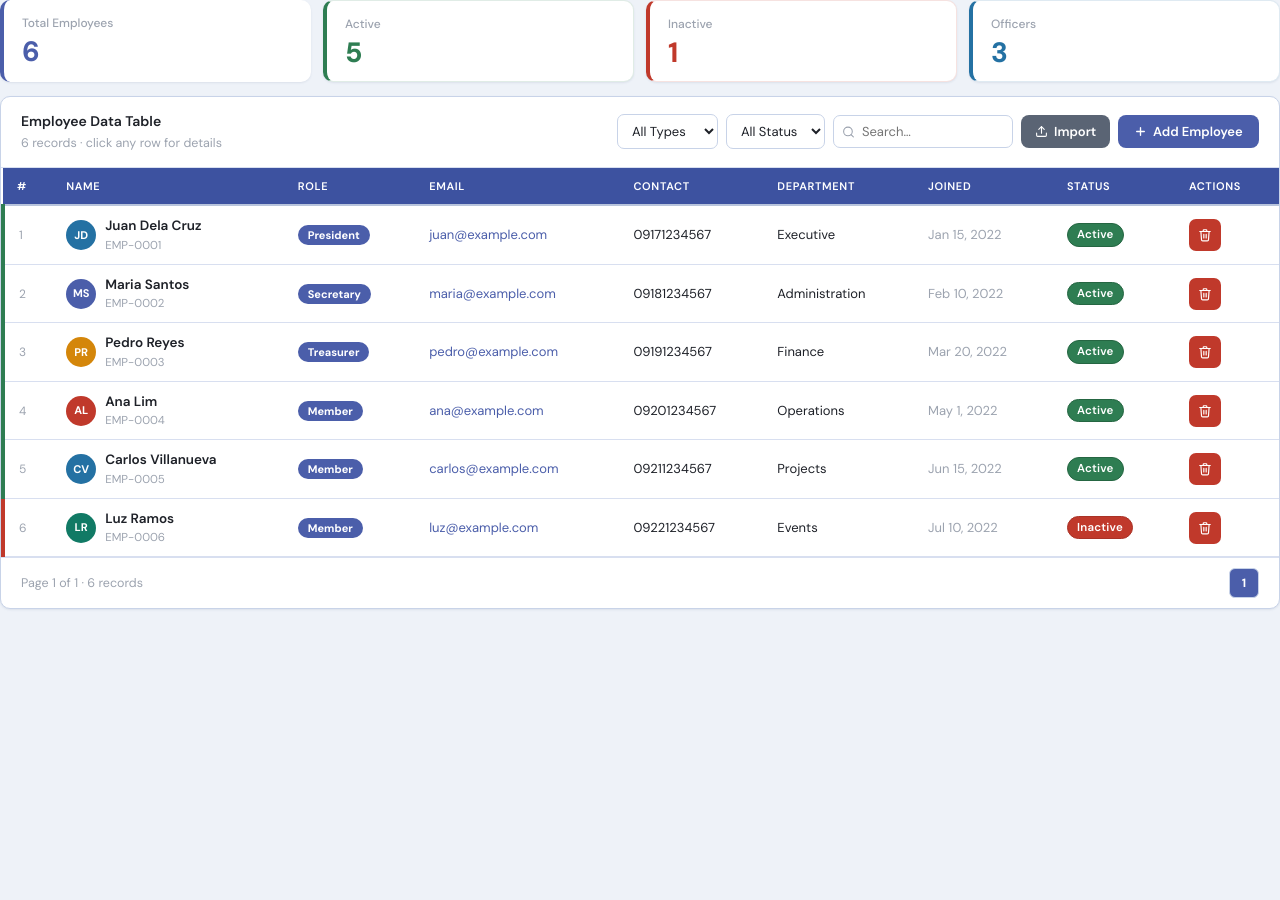
Test case: Employees page › changing the role in the edit form moves the user to that role
Click the text "Ana Lim": (135, 402) [105,392,165,412]
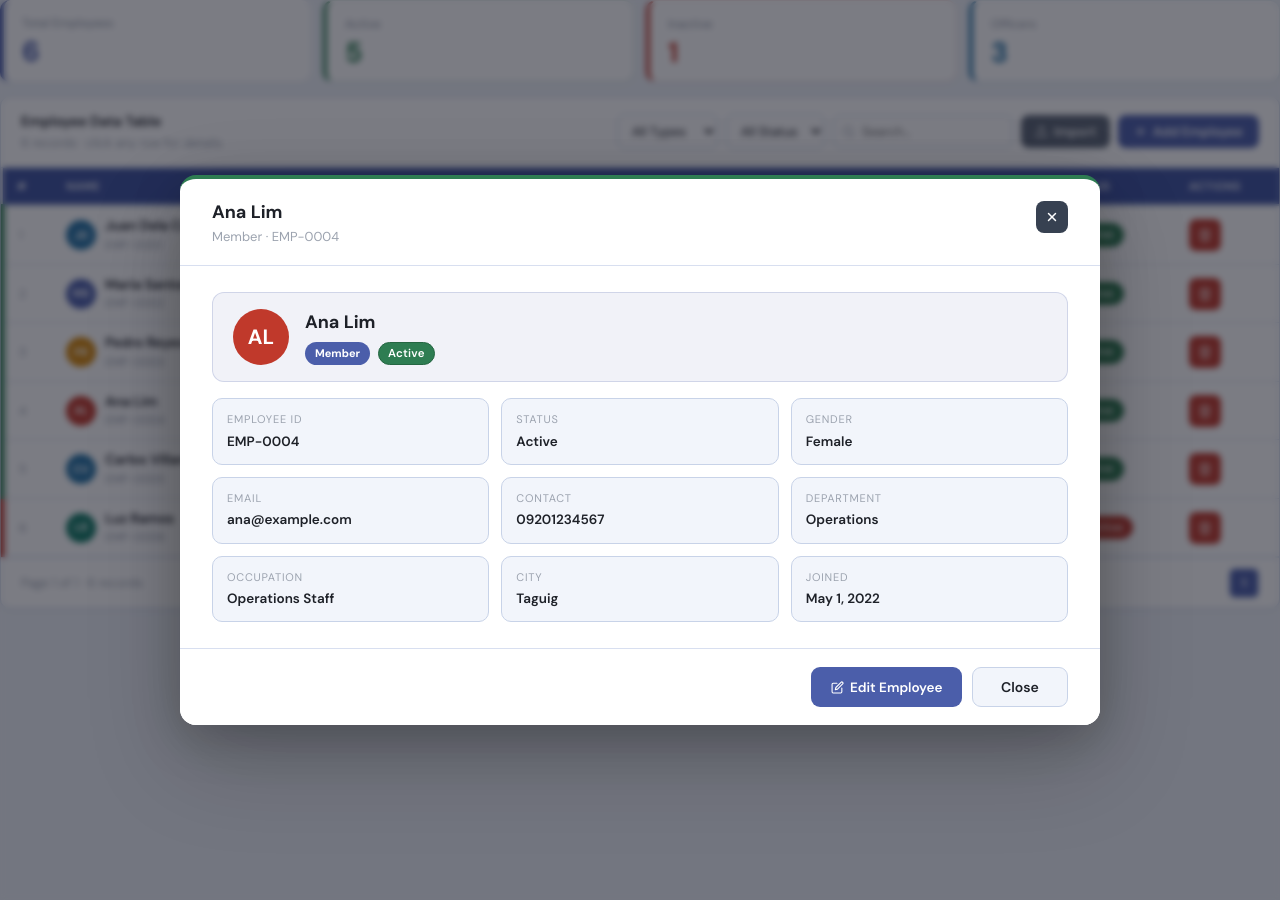
Click the button "Edit Employee": (886, 687) [811,667,962,707]
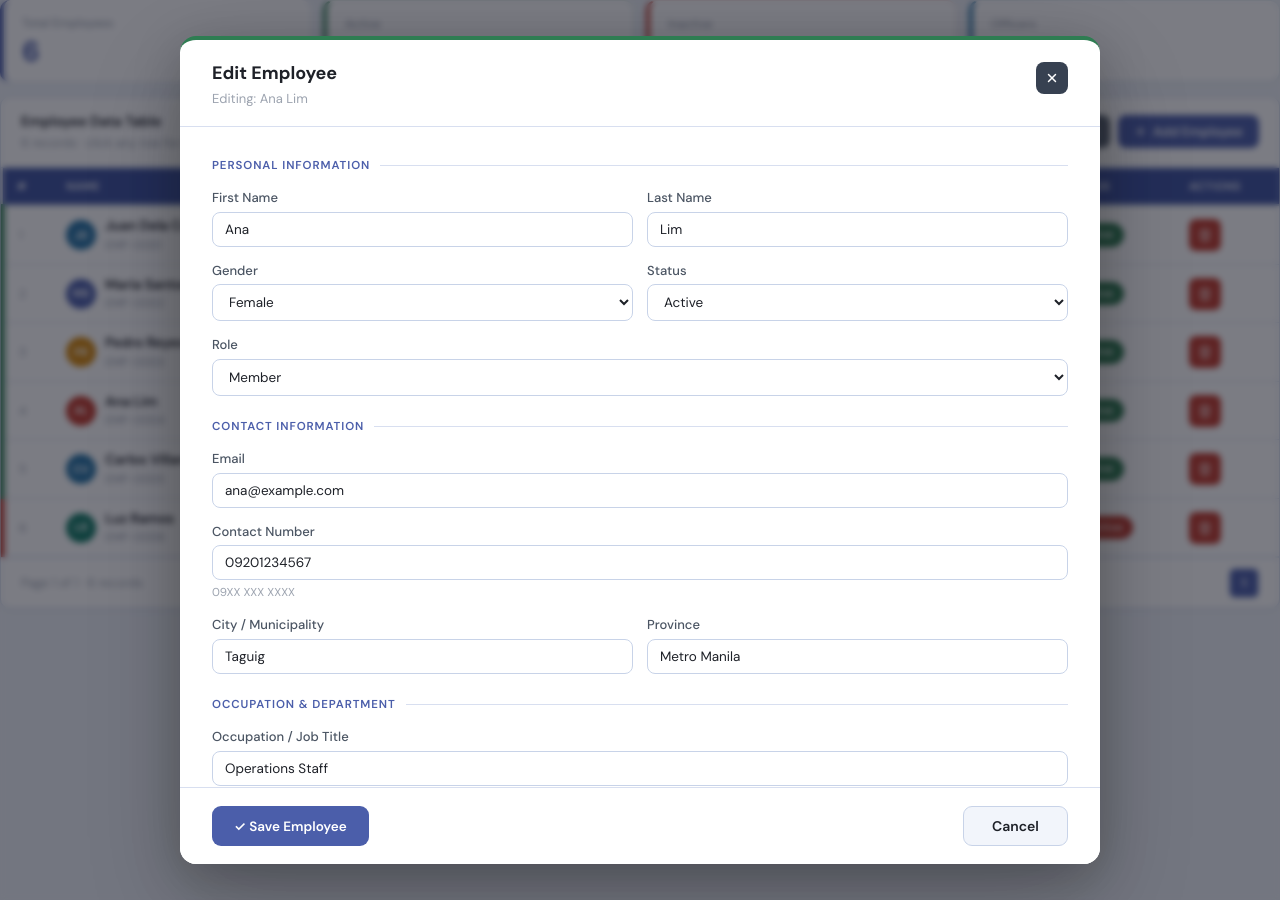
Select "Project Lead" in the 3rd dropdown: (640, 377) [212,359,1068,396]
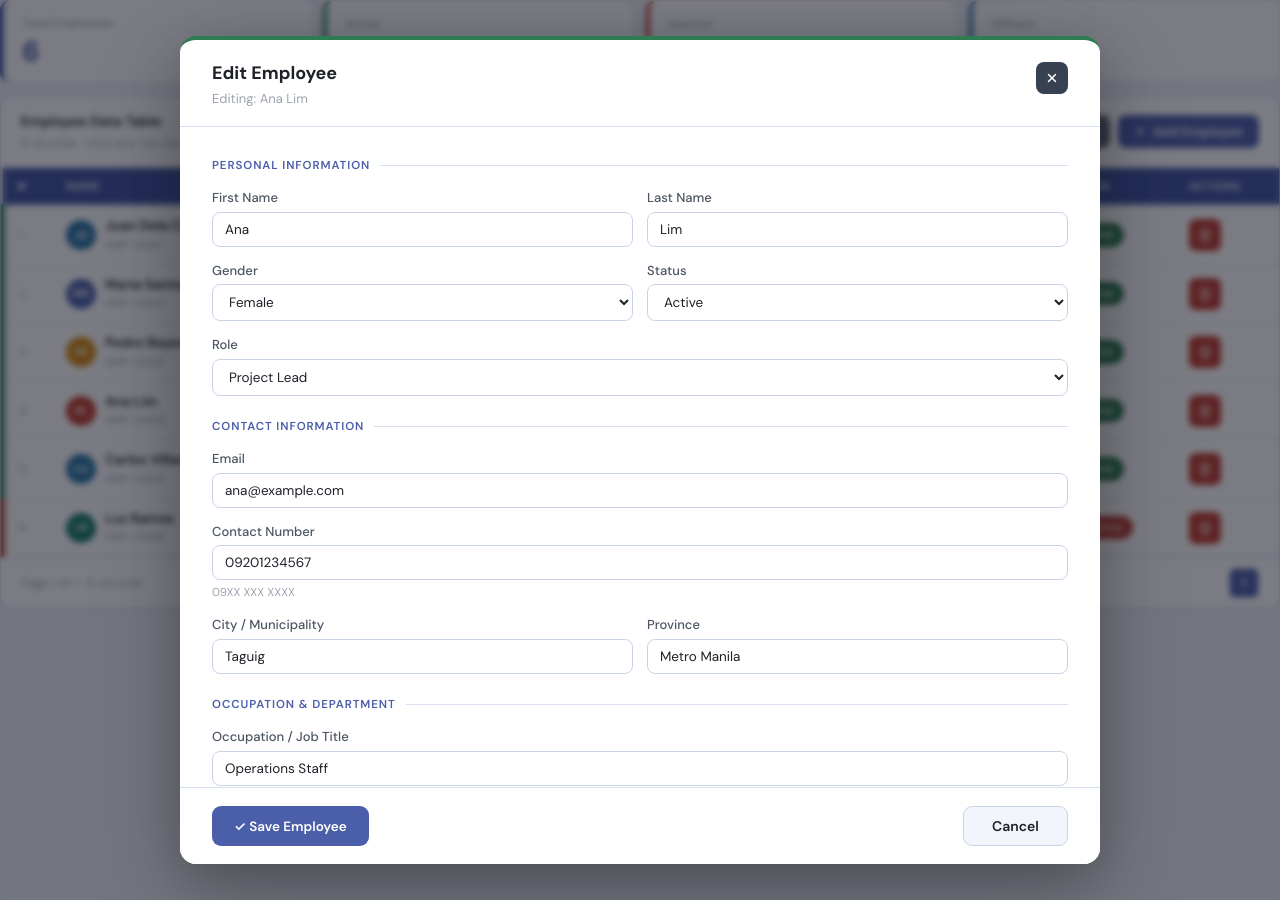
Click the button "✓ Save Employee": (290, 826) [212,806,369,846]
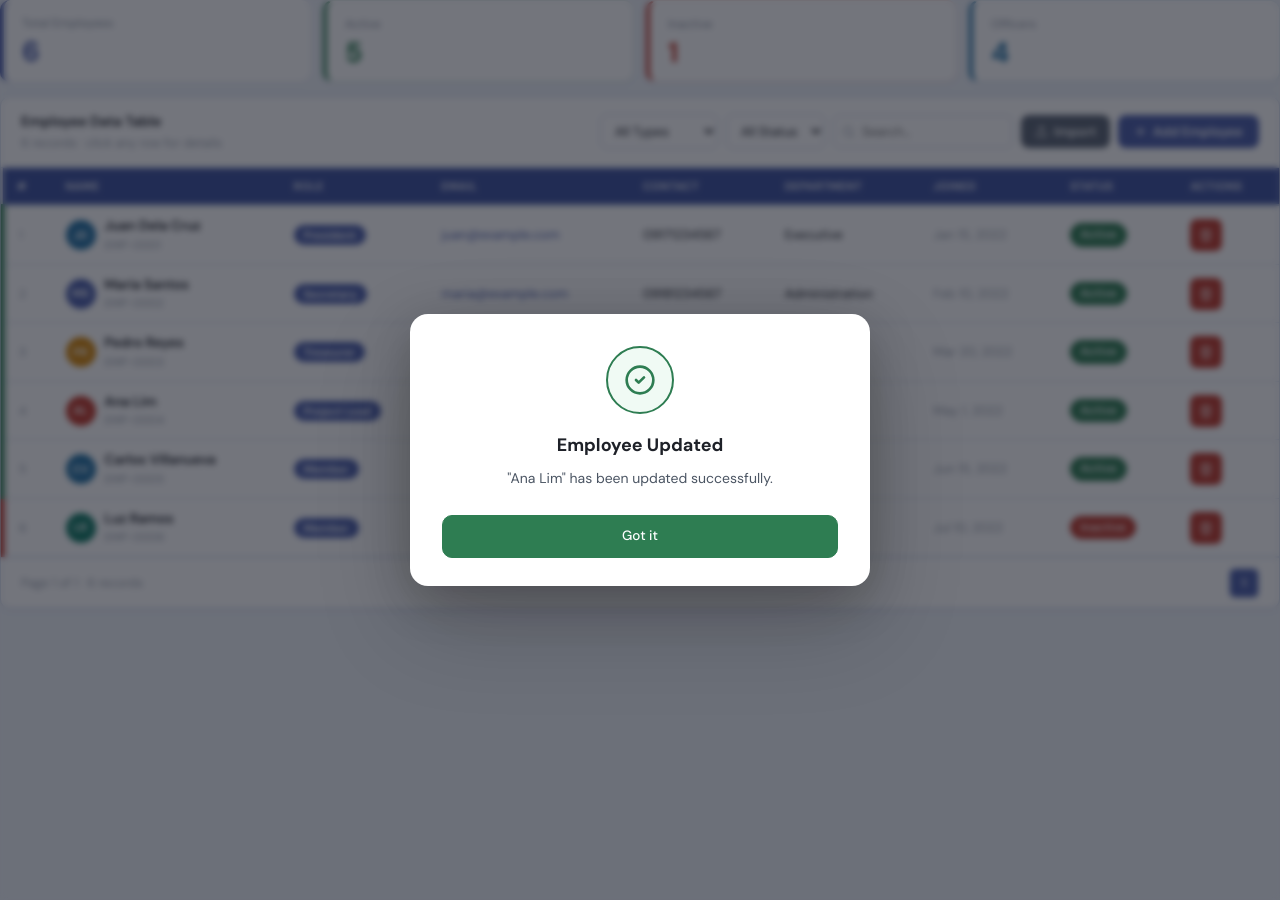
Check: the row shows "Project Lead", box [304,404,371,418]
